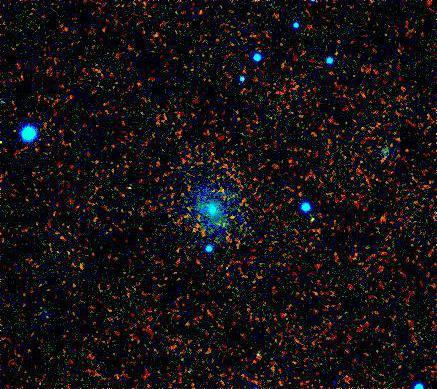star: (213, 207, 243, 237)
